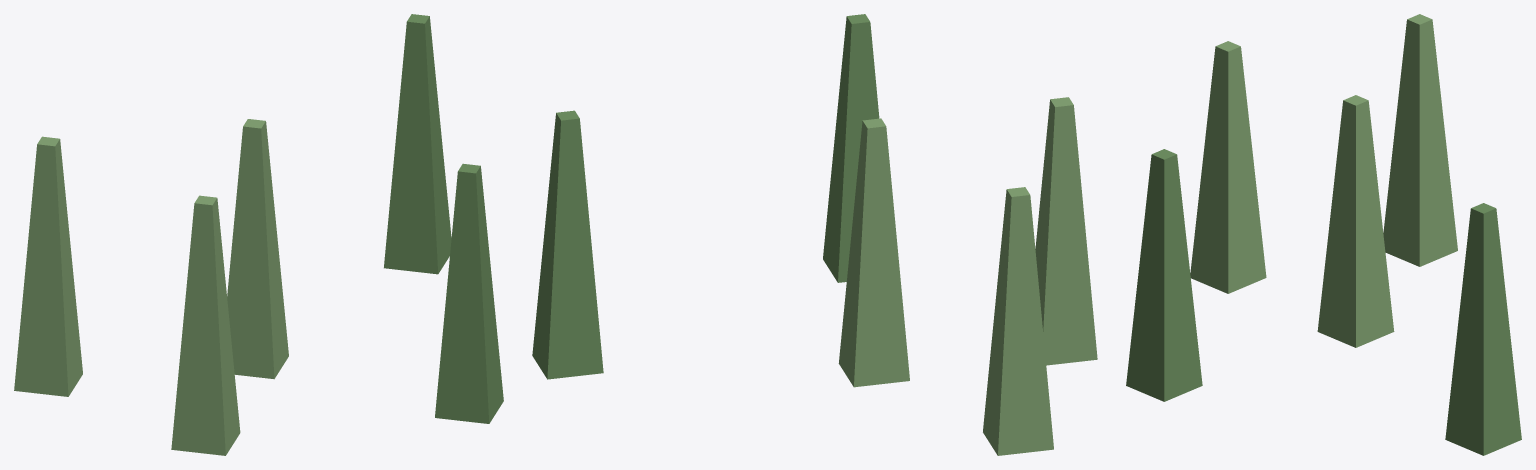
File: low_grass.glb
3 views of the same model, side by side, from view 1: azimuth 30°, elevation 25°; view 2: azimuth 150°, elevation 25°; view 3: azimuth 270°, elevation 25° (orthographic). The views are drawn at different scales.
Parts seen in each view (by area): view 1: grass_low; view 2: grass_low; view 3: grass_low.
Boxes of the visible parts, x1,y1,x2,y2 form: grass_low: (14, 14, 503, 455); grass_low: (532, 14, 1097, 455); grass_low: (1126, 14, 1521, 455).
Size of the model in its own units: 0.41 by 0.2 by 0.31.
